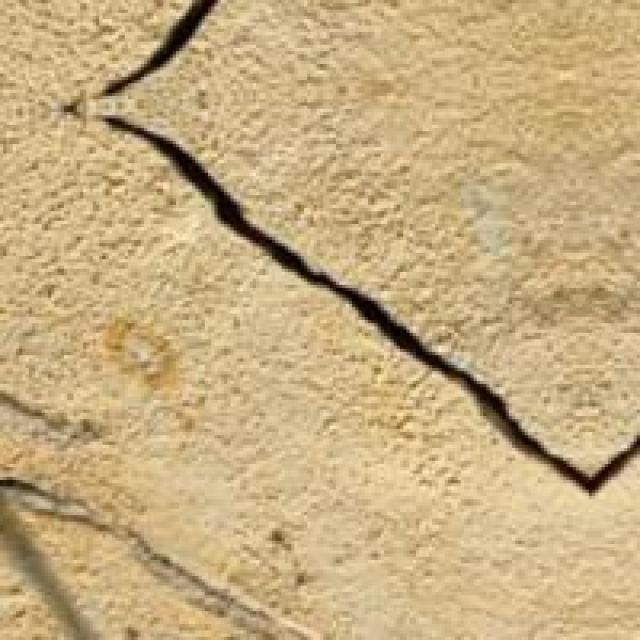crack: (41, 0, 636, 560)
